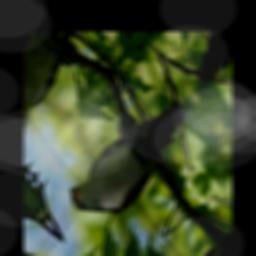Cuckoo: (65, 74, 195, 245)
